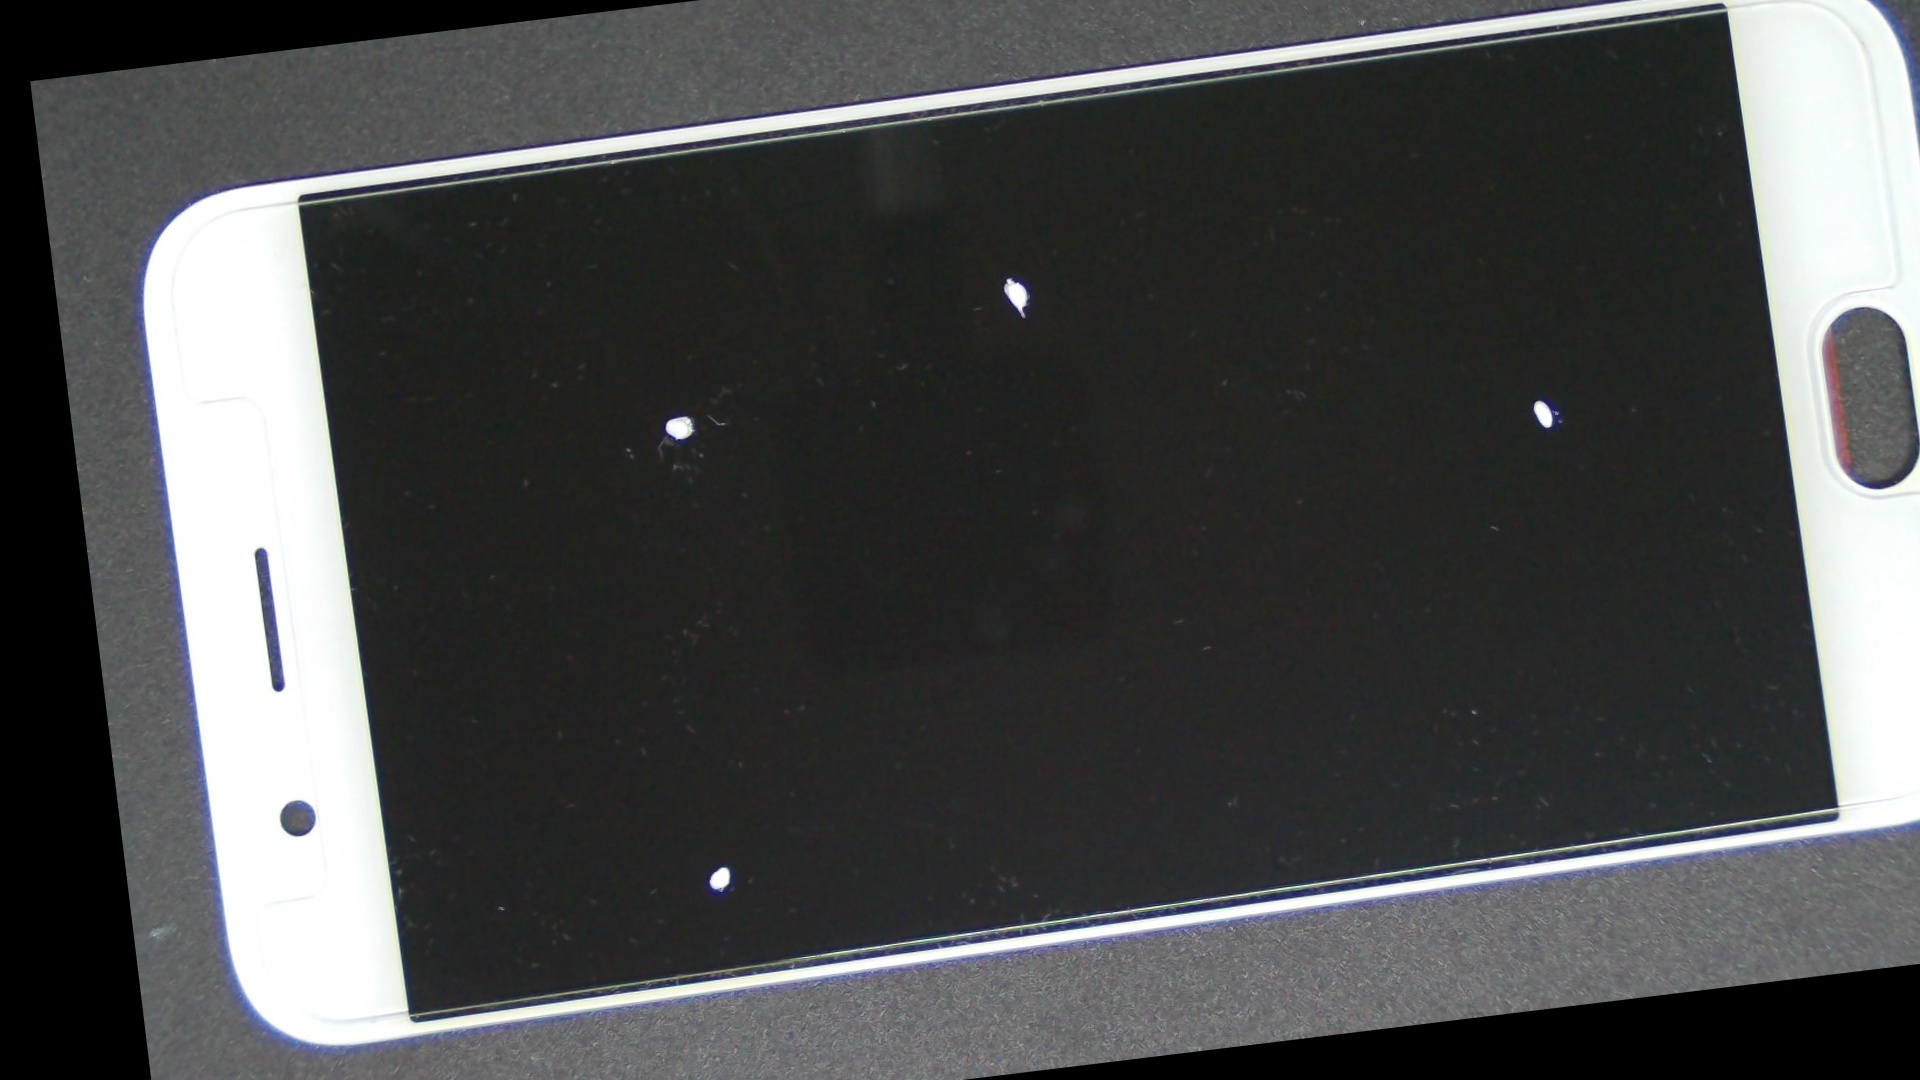oil: (785, 95, 1920, 733), (376, 402, 1043, 1080), (520, 65, 1498, 489), (352, 177, 994, 655)
